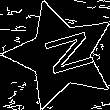N_W: (29, 29, 92, 82)
